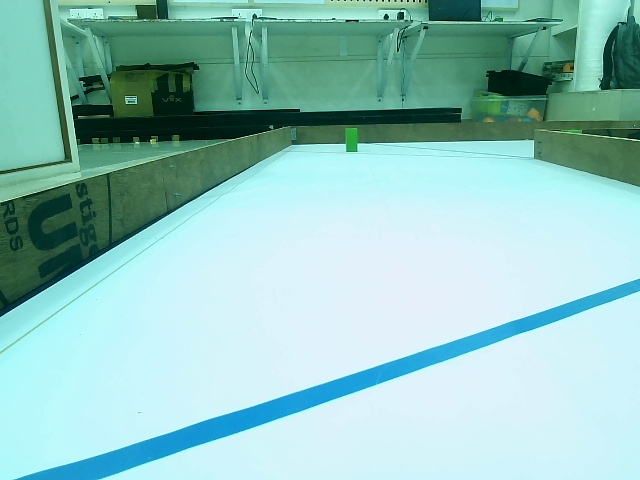green: (344, 125, 361, 152)
